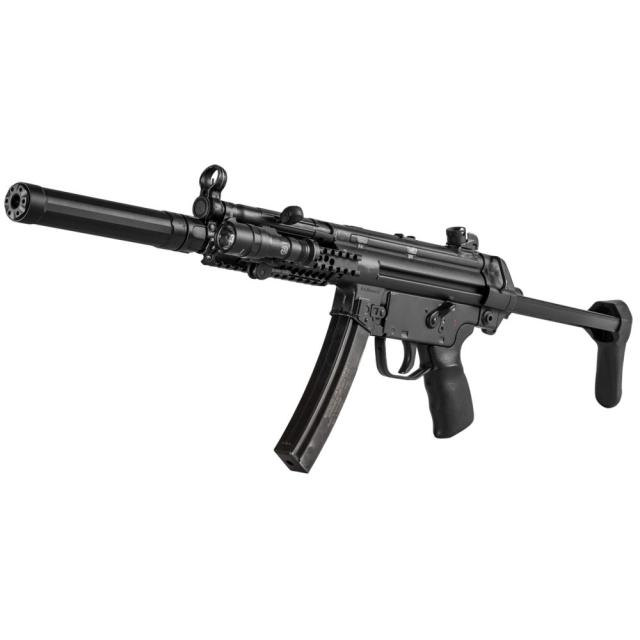SMG: (4, 166, 634, 476)
